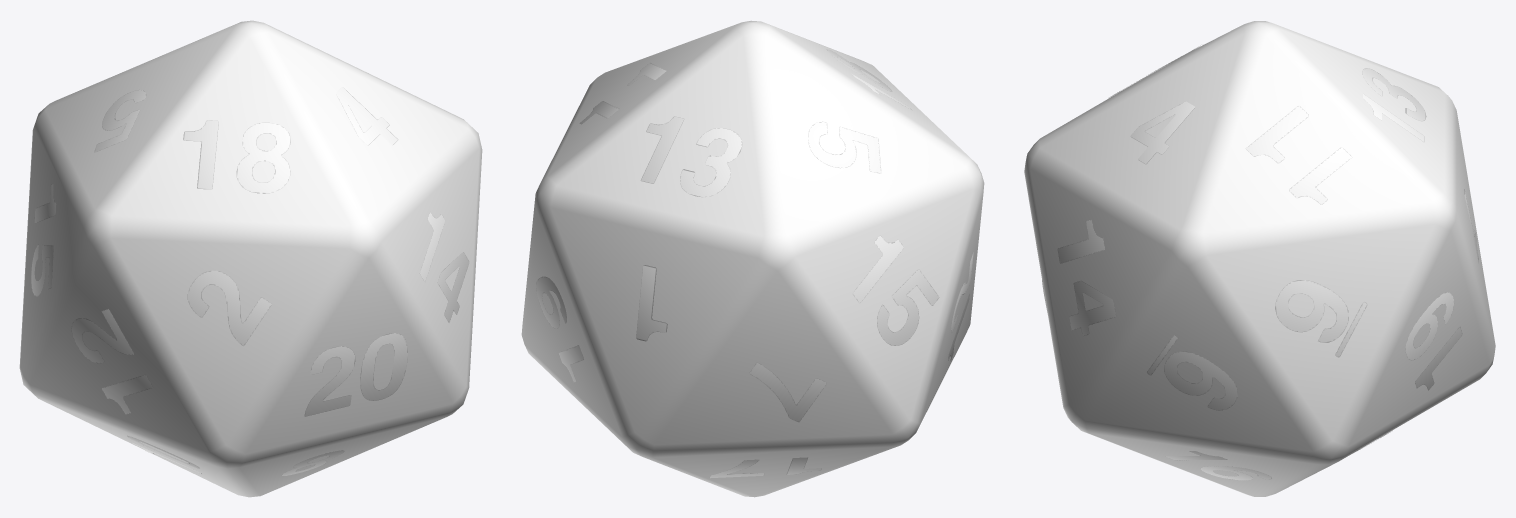
3 views of the same model, side by side, from view 1: azimuth 30°, elevation 25°; view 2: azimuth 150°, elevation 25°; view 3: azimuth 270°, elevation 25° (orthographic).
Parts seen in each view (by area): view 1: D20; view 2: D20; view 3: D20.
Part boxes in pixels (box(x1,y1,x2,y2)): D20: box(19, 20, 482, 497); D20: box(521, 20, 984, 497); D20: box(1024, 21, 1495, 496).
Bounding box in the file's own units: 0.1712 × 0.2012 × 0.18.
2 materials, 1 textured.
